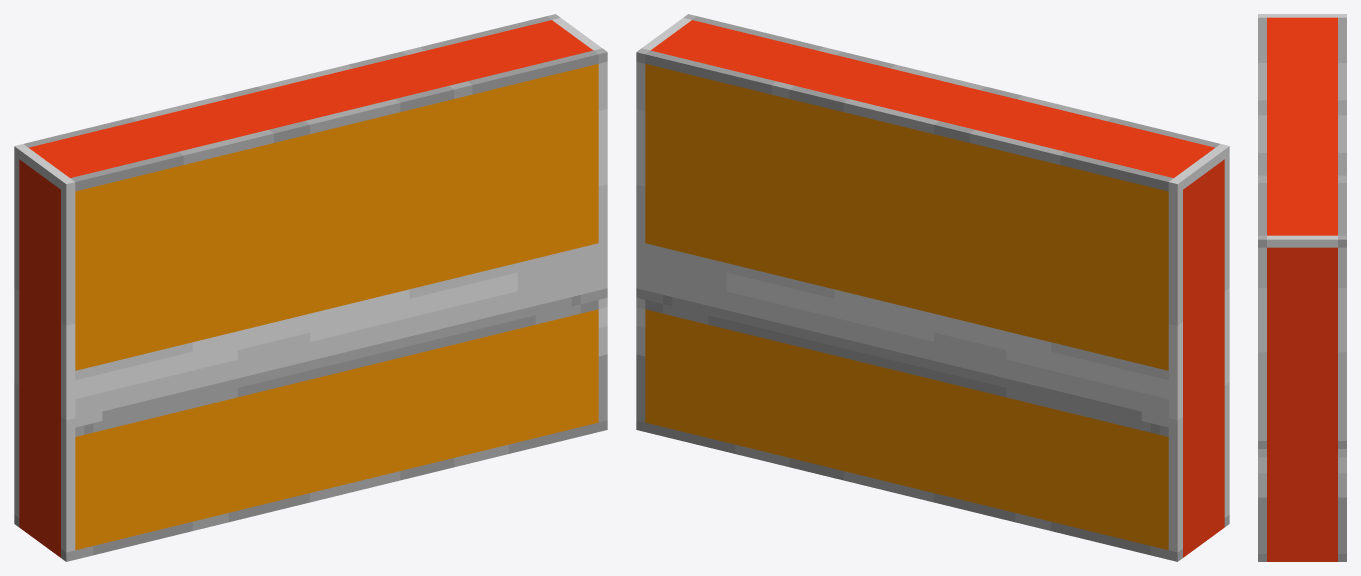
File: Engineering Wall 2.obj
3 views of the same model, side by side, from view 1: azimuth 30°, elevation 25°; view 2: azimuth 150°, elevation 25°; view 3: azimuth 270°, elevation 25° (orthographic). The views are drawn at different scales.
Bounding box in the file's own units: 60 × 40 × 10.
1 material, 1 textured.
